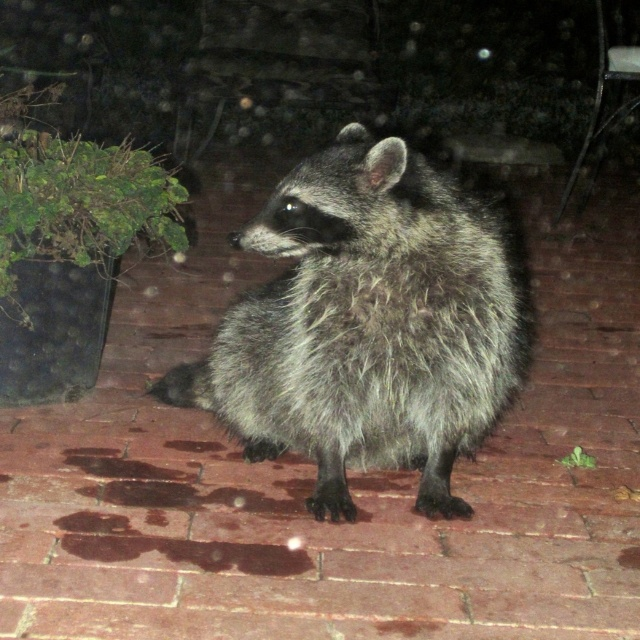Raccoon: (141, 121, 529, 525)
